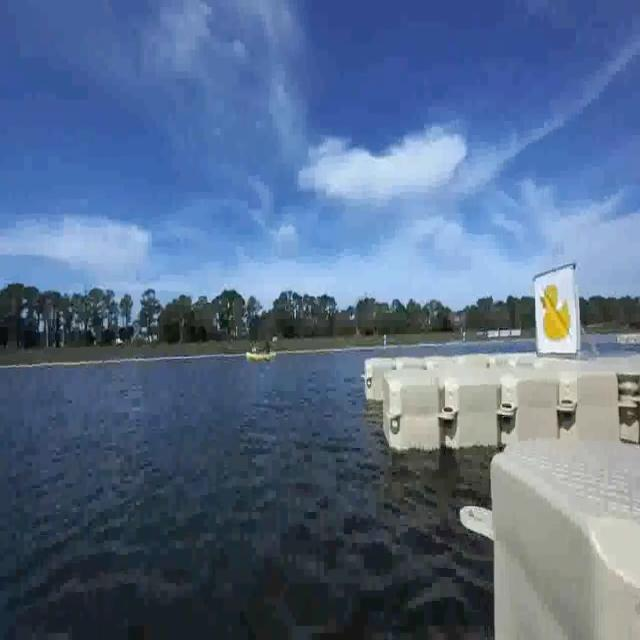yellow-duck: (537, 274, 579, 352)
